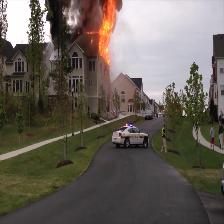fire: (47, 1, 90, 36), (98, 5, 114, 59)
